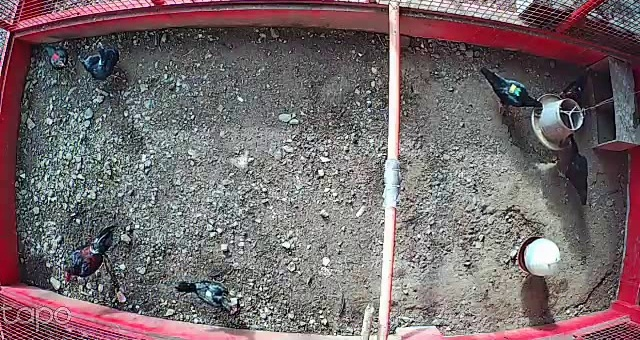Chicken: (475, 63, 547, 118), (170, 273, 240, 318), (552, 134, 594, 208), (76, 38, 128, 83), (556, 64, 593, 103), (40, 40, 70, 71)
Rooster: (59, 224, 119, 284)
Saddle_Color_Red: (52, 52, 60, 60)
Saddle_Color_YellowGreen: (509, 86, 522, 96)
